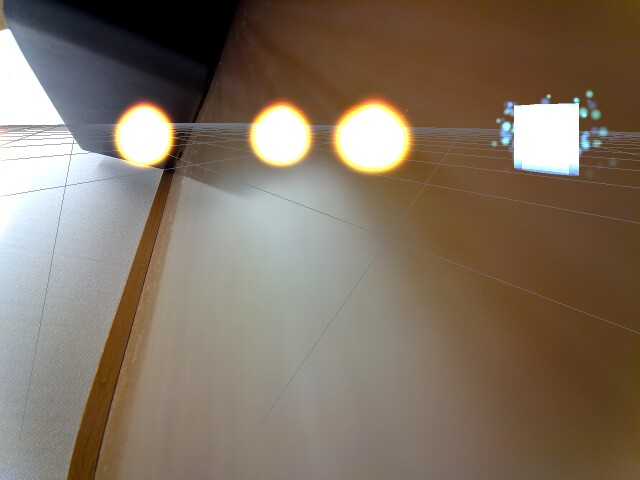firebig: (334, 89, 416, 182)
